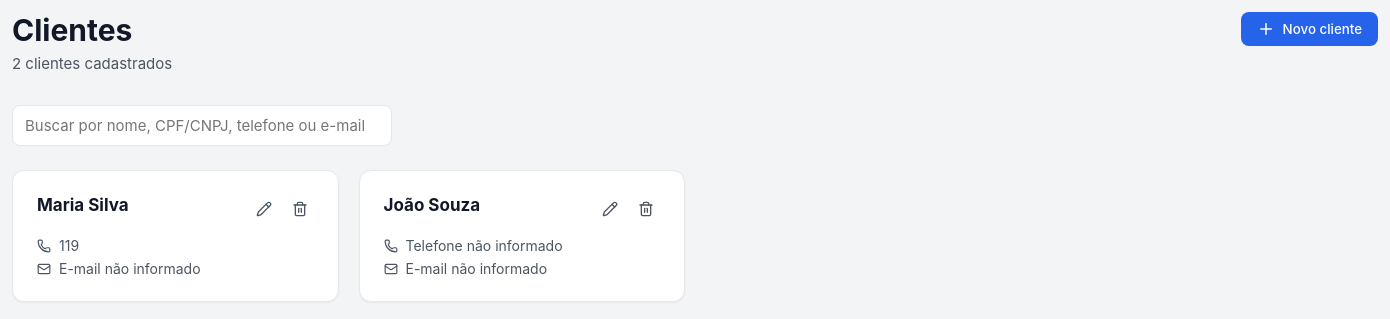
Test: Clientes › lista os clientes e filtra pela busca
Expected: the heading "Maria Silva" is shown, [37, 195, 129, 215]
Expected: the heading "João Souza" is shown, [384, 195, 480, 215]
Type "maria" into the search field named "Buscar clientes". click: (202, 126)
box: [12, 105, 392, 146]
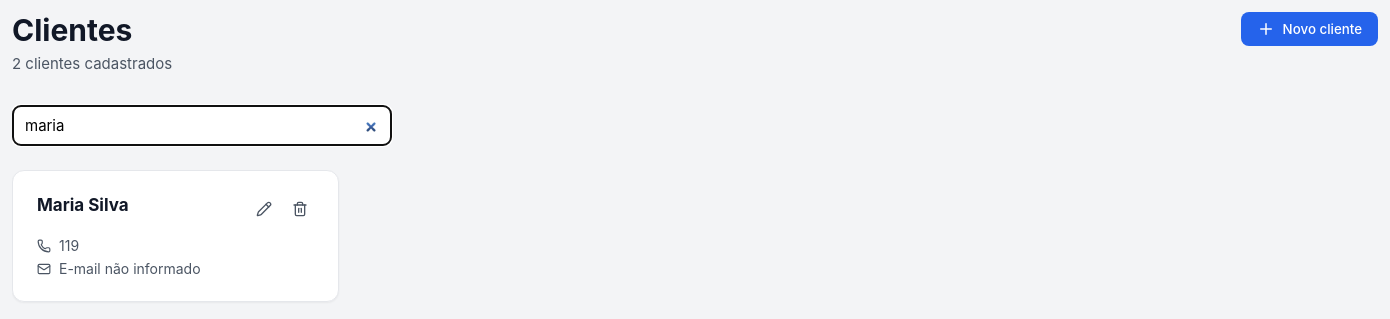
Expected: the heading "Maria Silva" is shown, [37, 195, 129, 215]
Expected: the heading "João Souza" is gone
